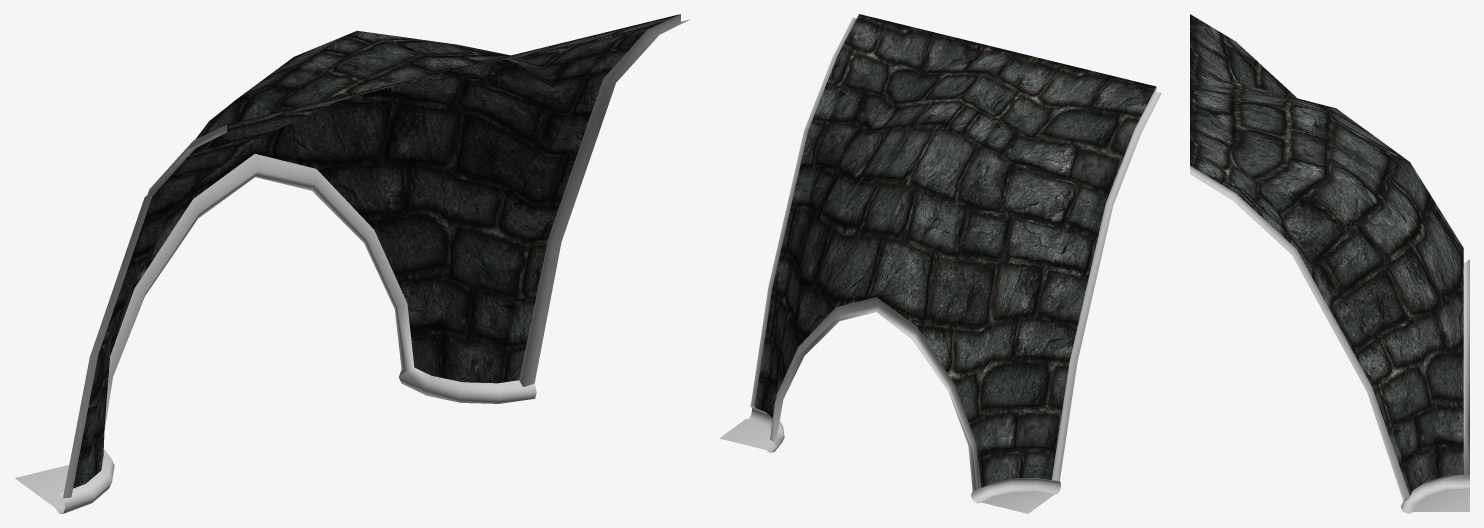
Rendered from arched_square_bricks.dae.
The picture shows the model from 3 angles, left to right: view 1: azimuth 30°, elevation 25°; view 2: azimuth 150°, elevation 25°; view 3: azimuth 270°, elevation 25°; orthographic projection. The views are drawn at different scales.
Visible parts, largest first — view 1: polySurface179, polySurface180; view 2: polySurface179, polySurface180; view 3: polySurface179, polySurface180.
Boxes of the visible parts, x1,y1,x2,y2 form: polySurface179: (73,14,679,488); polySurface180: (15,14,689,513); polySurface179: (754,14,1156,487); polySurface180: (719,17,1161,513); polySurface179: (1190,14,1463,495); polySurface180: (1190,166,1469,513).
Bounding box in the file's own units: 4 × 4.08 × 3.
